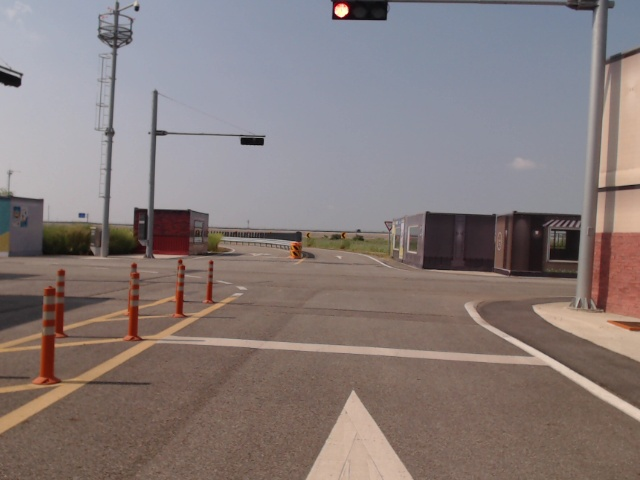red_3: (332, 0, 387, 21)
